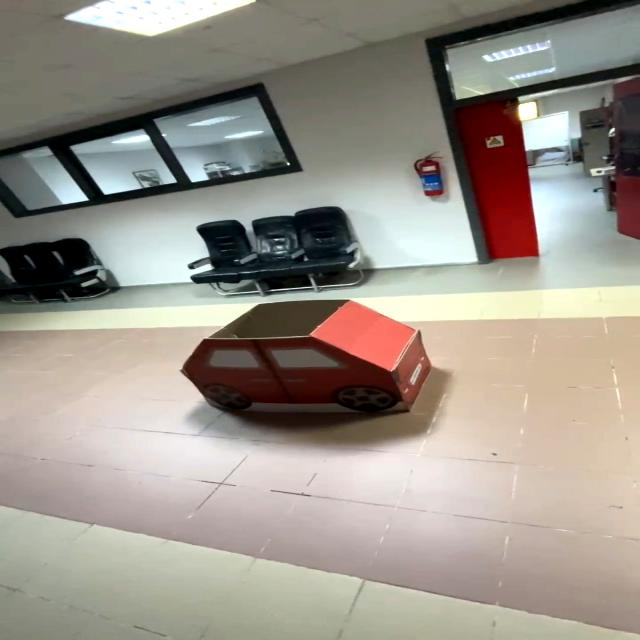red_car: (180, 290, 446, 424)
